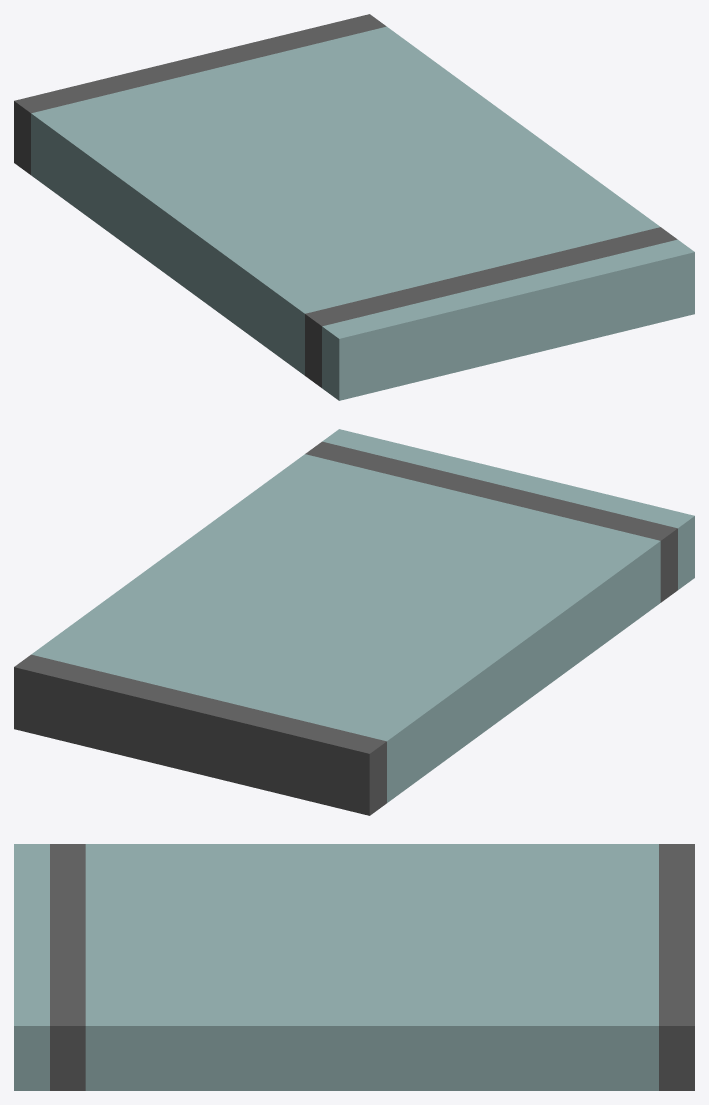
File: MazeFalseWall.obj
3 views of the same model, one above another, from view 1: azimuth 30°, elevation 25°; view 2: azimuth 150°, elevation 25°; view 3: azimuth 270°, elevation 25° (orthographic). The views are drawn at different scales.
Visible parts, largest first — view 1: MazeFalseWall; view 2: MazeFalseWall; view 3: MazeFalseWall.
Part boxes in pixels (box(x1,y1,x2,y2)): MazeFalseWall: box(14, 14, 694, 400); MazeFalseWall: box(14, 429, 694, 815); MazeFalseWall: box(14, 844, 694, 1090).
Bounding box in the file's own units: 12 × 2 × 19.
1 material, 1 textured.
